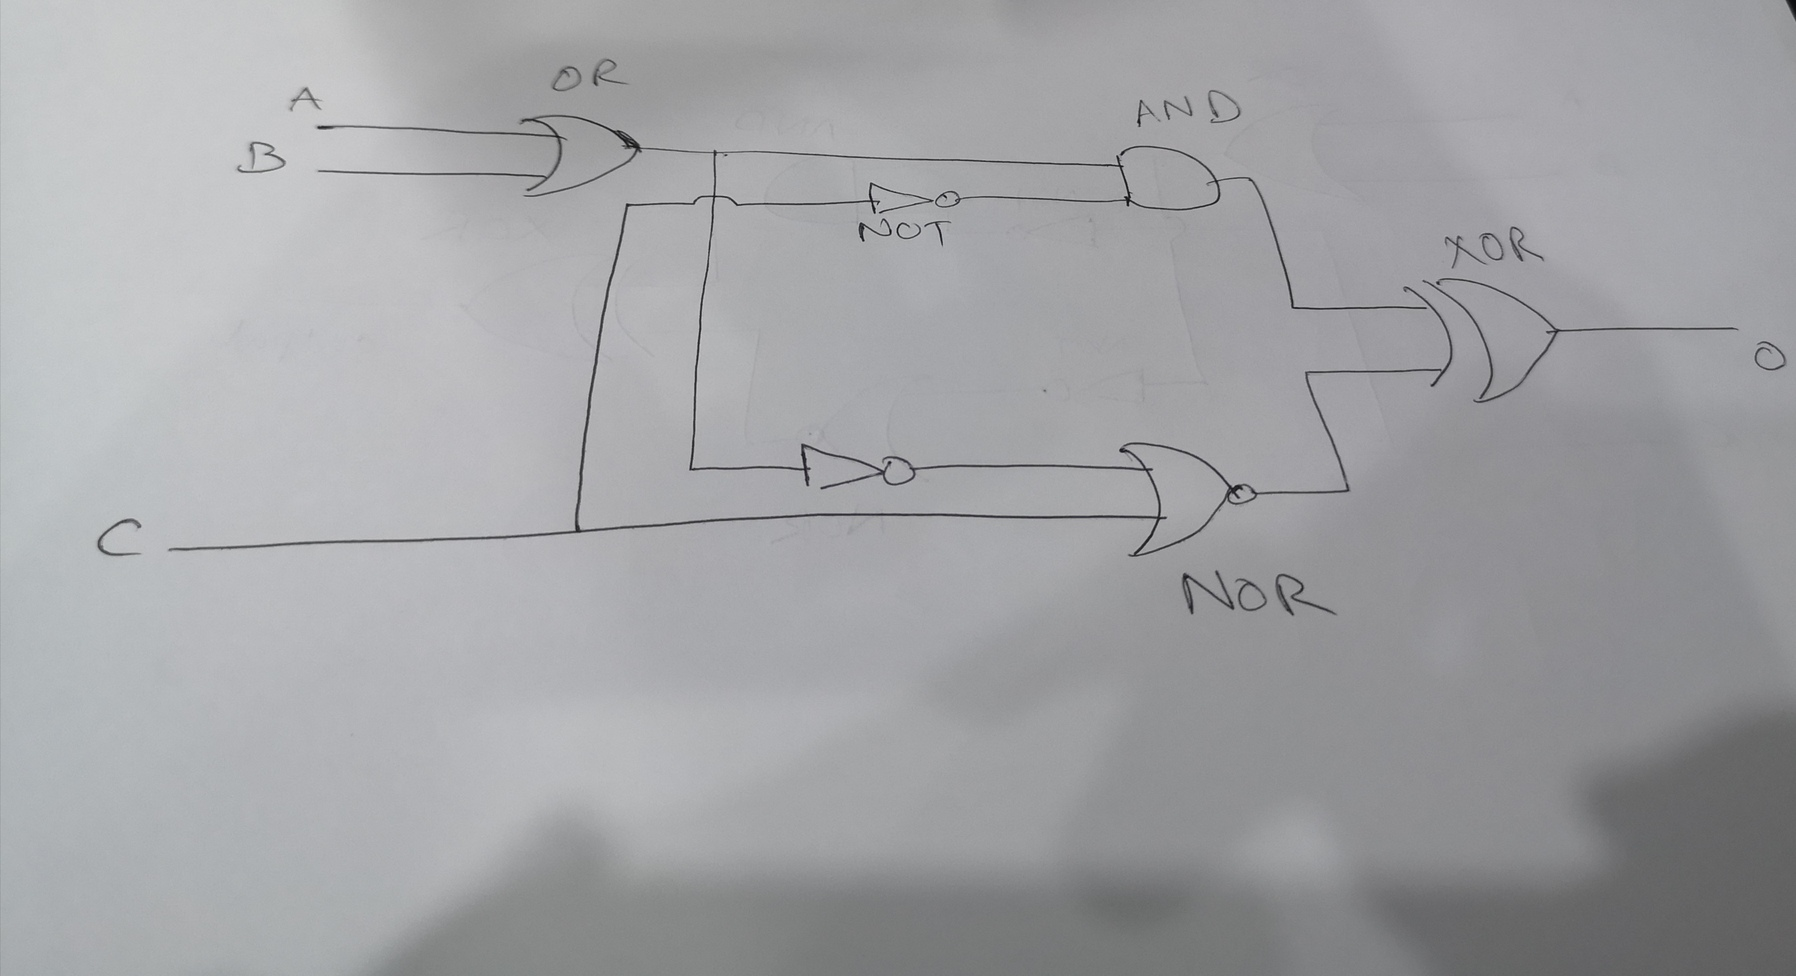and: (1112, 138, 1227, 221)
crossover: (690, 185, 741, 212)
junction: (1332, 474, 1360, 502), (1296, 363, 1323, 386), (1241, 169, 1263, 189), (566, 520, 586, 540), (1283, 298, 1302, 316), (684, 462, 700, 477), (710, 145, 724, 161), (620, 201, 636, 213)
nor: (1112, 435, 1264, 563)
not: (796, 436, 918, 496), (867, 178, 965, 219)
or: (515, 111, 644, 200)
terminal: (1716, 317, 1748, 338), (160, 538, 184, 561), (308, 118, 326, 136), (309, 162, 326, 181)
text: (1185, 566, 1335, 623), (1130, 87, 1245, 133), (1440, 227, 1550, 270), (539, 59, 630, 102), (857, 218, 957, 251), (91, 512, 153, 564), (234, 131, 294, 179), (279, 82, 326, 123), (1750, 338, 1790, 375)
xor: (1397, 274, 1571, 410)
